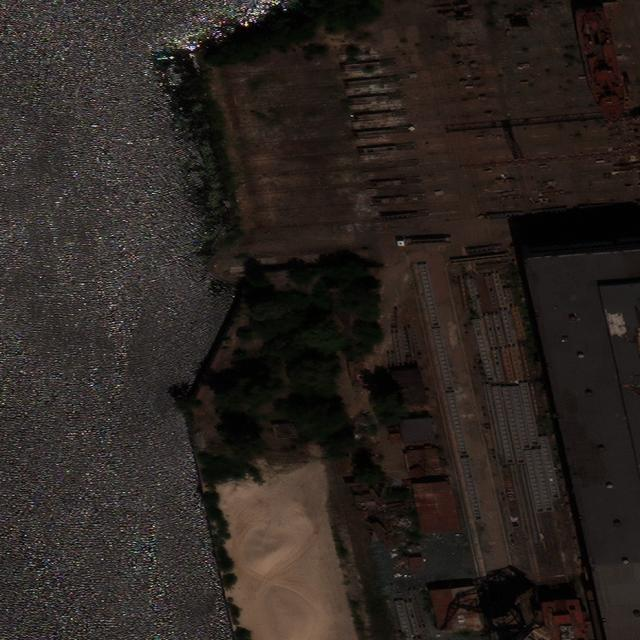Other Ship: (540, 600, 592, 640)
